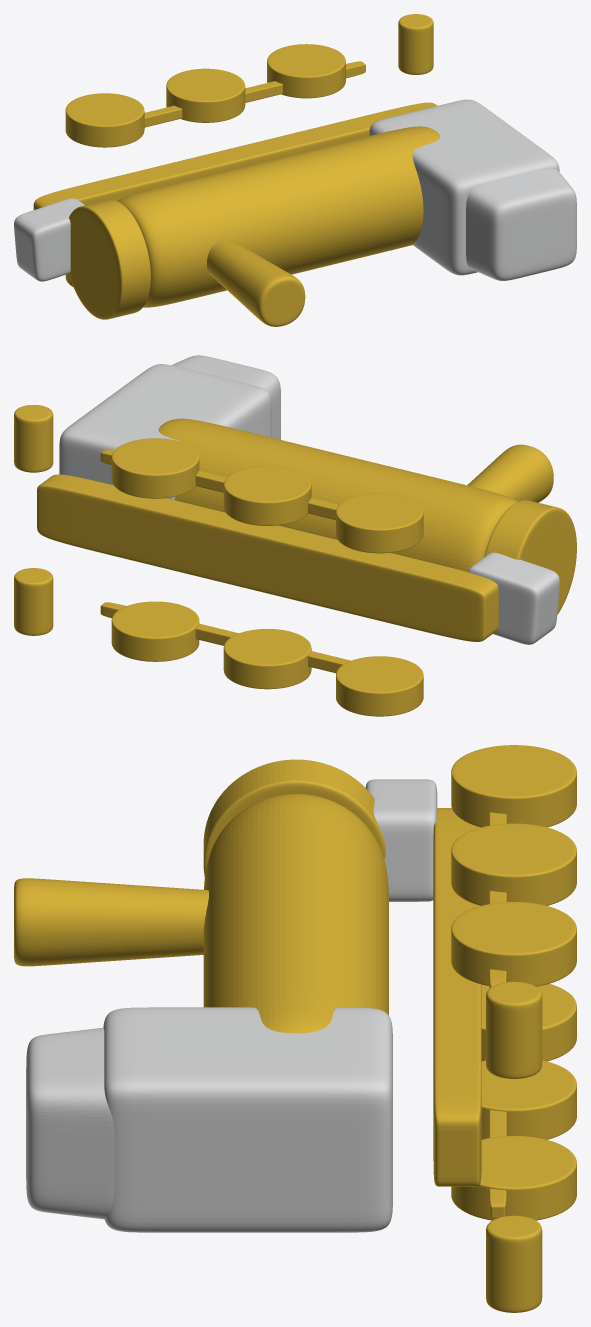
Rendered from steam_locomotive_sq.glb.
The picture shows the model from 3 angles, top to bottom: view 1: azimuth 30°, elevation 25°; view 2: azimuth 150°, elevation 25°; view 3: azimuth 270°, elevation 25°; orthographic projection. The views are drawn at different scales.
Parts seen in each view (by area): view 1: superquadric_0, superquadric_2, superquadric_3, superquadric_1, superquadric_6, superquadric_4, superquadric_5, superquadric_10, superquadric_12, superquadric_14, superquadric_16, superquadric_8; view 2: superquadric_6, superquadric_0, superquadric_2, superquadric_5, superquadric_1, superquadric_9, superquadric_10, superquadric_14, superquadric_12, superquadric_13, superquadric_11, superquadric_4 (+5 smaller); view 3: superquadric_2, superquadric_0, superquadric_3, superquadric_4, superquadric_6, superquadric_14, superquadric_10, superquadric_12, superquadric_13, superquadric_5, superquadric_1, superquadric_11 (+4 smaller).
Part boxes in pixels (left/top/right/bottom): superquadric_0: left=117, top=126, right=440, bottom=307; superquadric_2: left=369, top=99, right=559, bottom=275; superquadric_3: left=466, top=169, right=576, bottom=280; superquadric_1: left=69, top=199, right=150, bottom=319; superquadric_6: left=33, top=102, right=437, bottom=209; superquadric_4: left=207, top=240, right=305, bottom=326; superquadric_5: left=14, top=198, right=84, bottom=281; superquadric_10: left=65, top=93, right=144, bottom=147; superquadric_12: left=166, top=68, right=245, bottom=122; superquadric_14: left=267, top=44, right=345, bottom=98; superquadric_16: left=398, top=14, right=433, bottom=74; superquadric_8: left=144, top=61, right=365, bottom=127; superquadric_6: left=37, top=474, right=498, bottom=641; superquadric_0: left=158, top=418, right=517, bottom=571; superquadric_2: left=59, top=364, right=271, bottom=499; superquadric_5: left=468, top=552, right=559, bottom=644; superquadric_1: left=484, top=500, right=576, bottom=614; superquadric_9: left=336, top=656, right=423, bottom=716; superquadric_10: left=336, top=493, right=423, bottom=553; superquadric_14: left=111, top=438, right=199, bottom=498; superquadric_12: left=223, top=465, right=311, bottom=525; superquadric_13: left=111, top=601, right=199, bottom=661; superquadric_11: left=223, top=629, right=311, bottom=689; superquadric_4: left=467, top=444, right=553, bottom=502; superquadric_2: left=103, top=1007, right=392, bottom=1232; superquadric_0: left=203, top=794, right=388, bottom=1033; superquadric_3: left=26, top=1027, right=114, bottom=1219; superquadric_4: left=14, top=878, right=208, bottom=966; superquadric_6: left=433, top=808, right=481, bottom=1186; superquadric_14: left=451, top=902, right=576, bottom=986; superquadric_10: left=451, top=745, right=576, bottom=827; superquadric_12: left=451, top=823, right=576, bottom=905; superquadric_13: left=451, top=1136, right=576, bottom=1220; superquadric_5: left=365, top=779, right=437, bottom=901; superquadric_1: left=203, top=759, right=385, bottom=877; superquadric_11: left=481, top=1060, right=576, bottom=1139.
Bounding box in the file's own units: 1 × 0.4145 × 0.6824.
